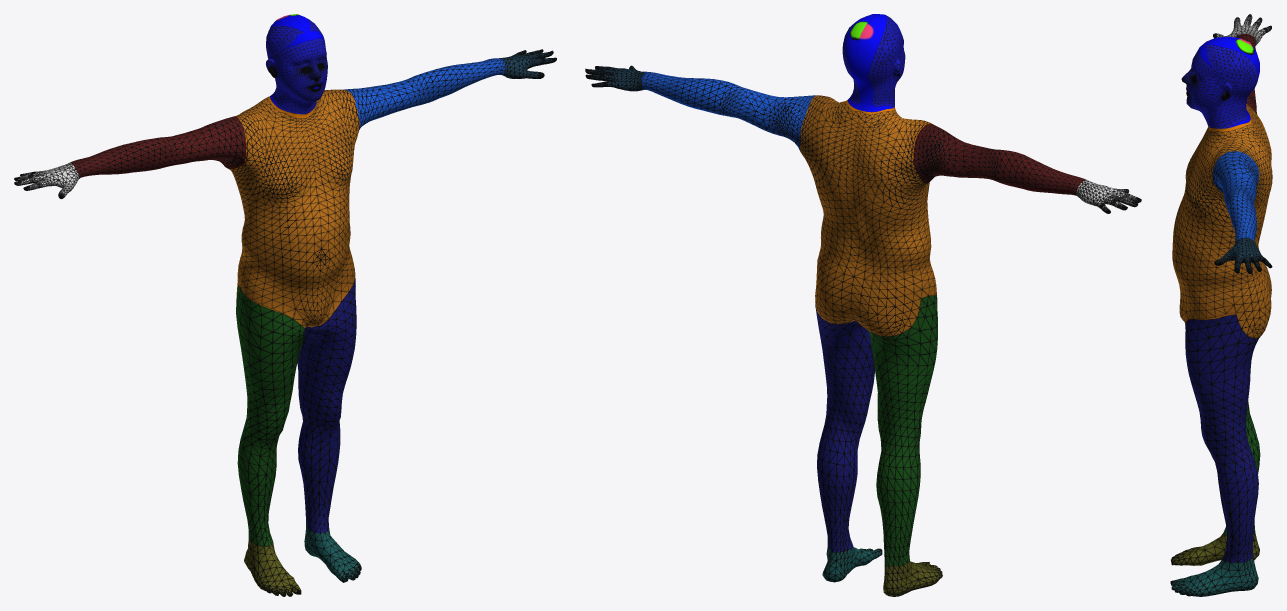
Rendered from smpl_uv.obj.
3 renders of one model, left to right at view 1: azimuth 30°, elevation 25°; view 2: azimuth 150°, elevation 25°; view 3: azimuth 270°, elevation 25°, orthographic. The views are drawn at different scales.
Size of the model in its own units: 1.84 by 1.79 by 0.3085.
1 material, 1 textured.
